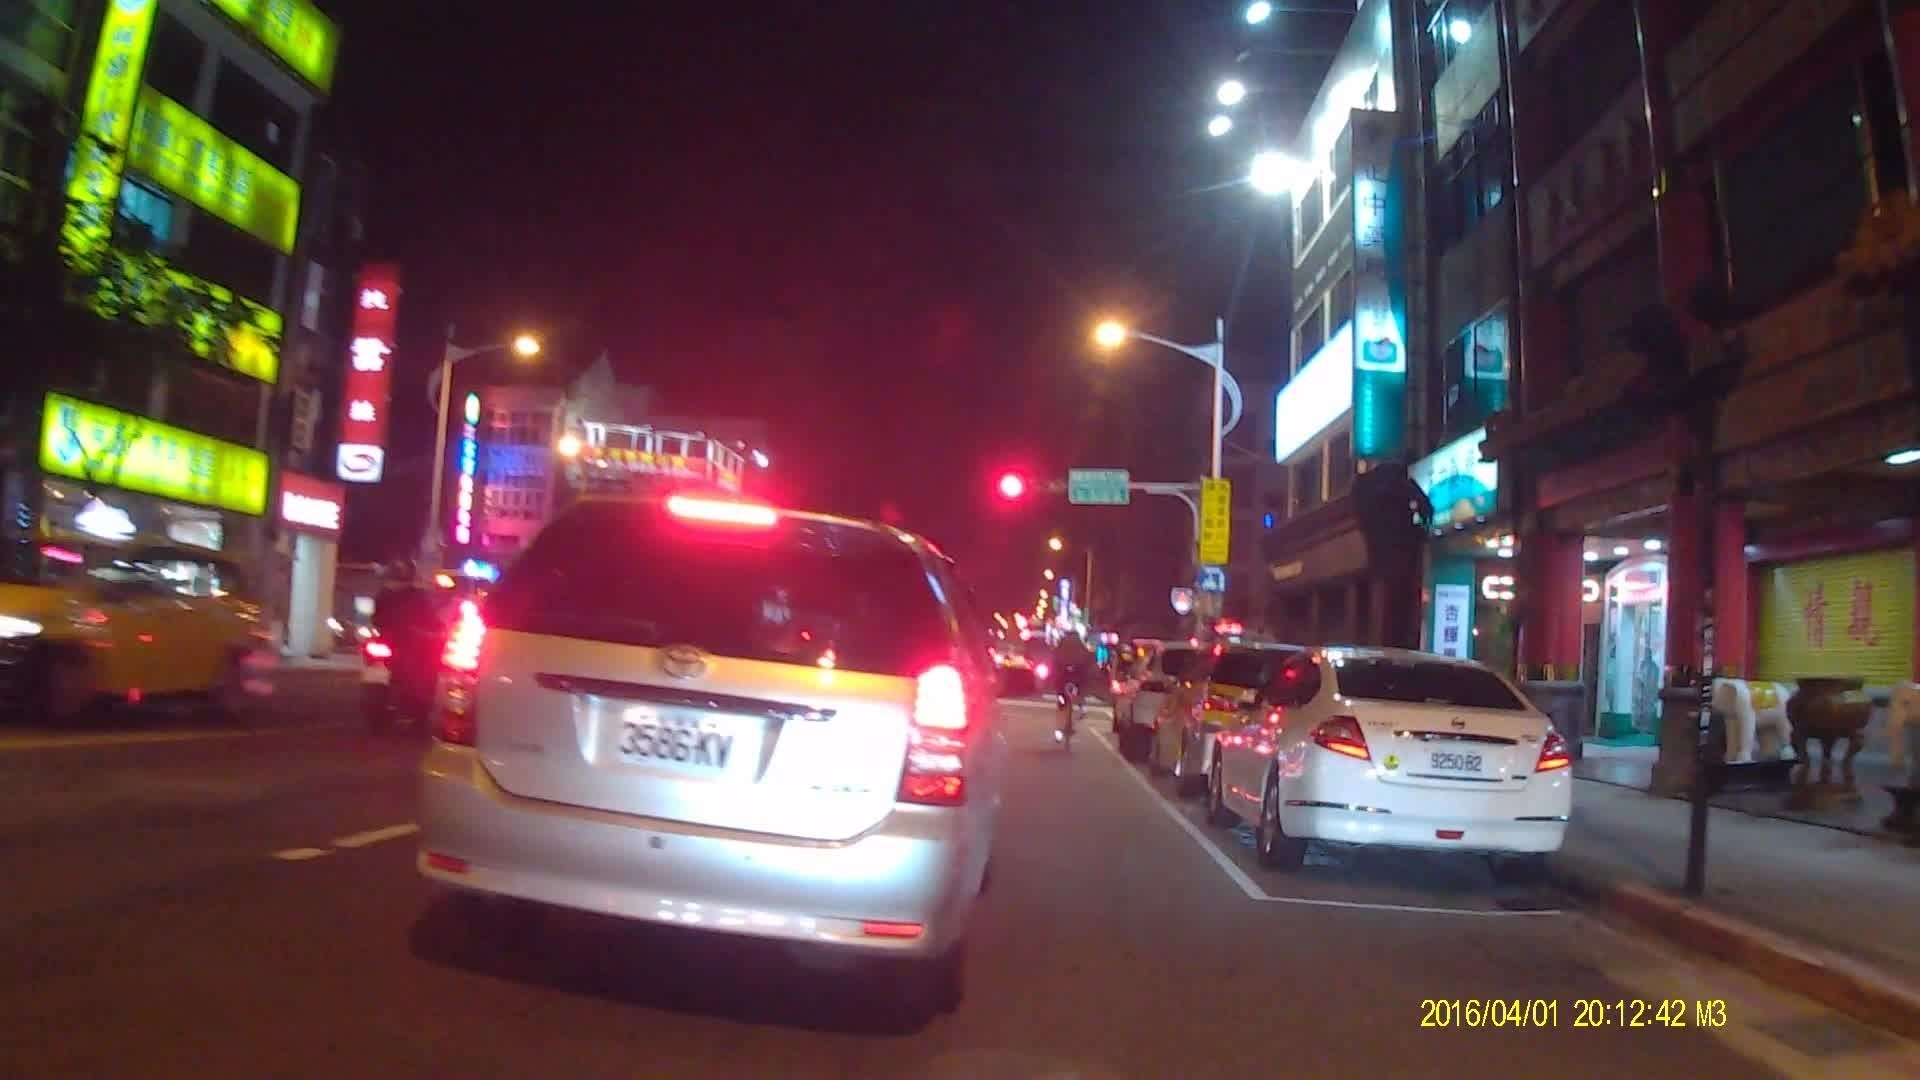License_plate: (619, 705, 734, 777), (1427, 744, 1489, 778)
